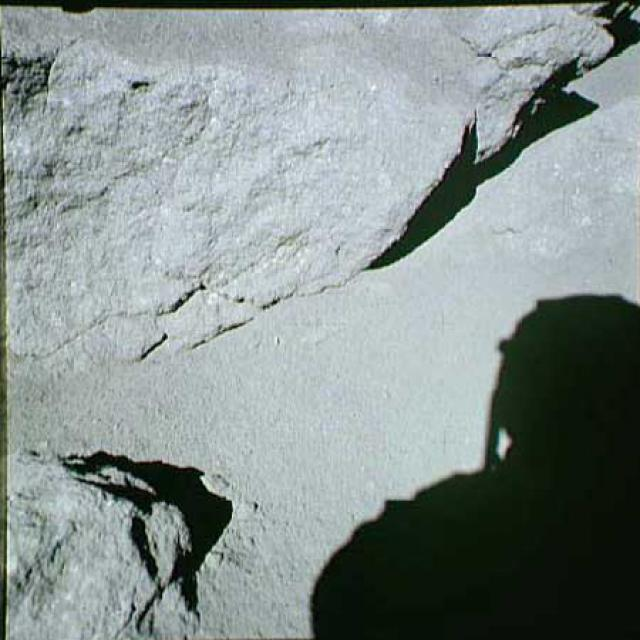rock: (0, 0, 638, 394), (6, 441, 210, 638)
